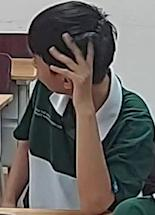Turning_Around: (0, 0, 153, 198)
